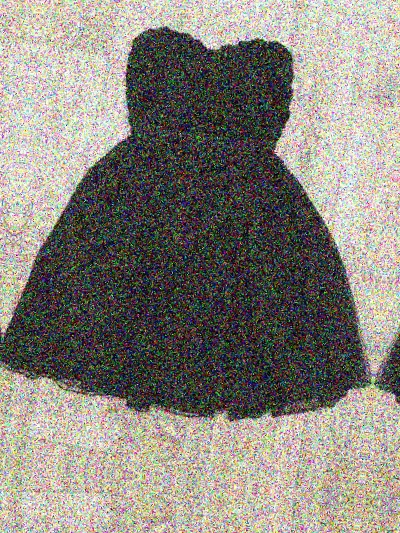Dress: (0, 5, 400, 448), (0, 0, 34, 408), (375, 47, 400, 490), (0, 513, 345, 533)
